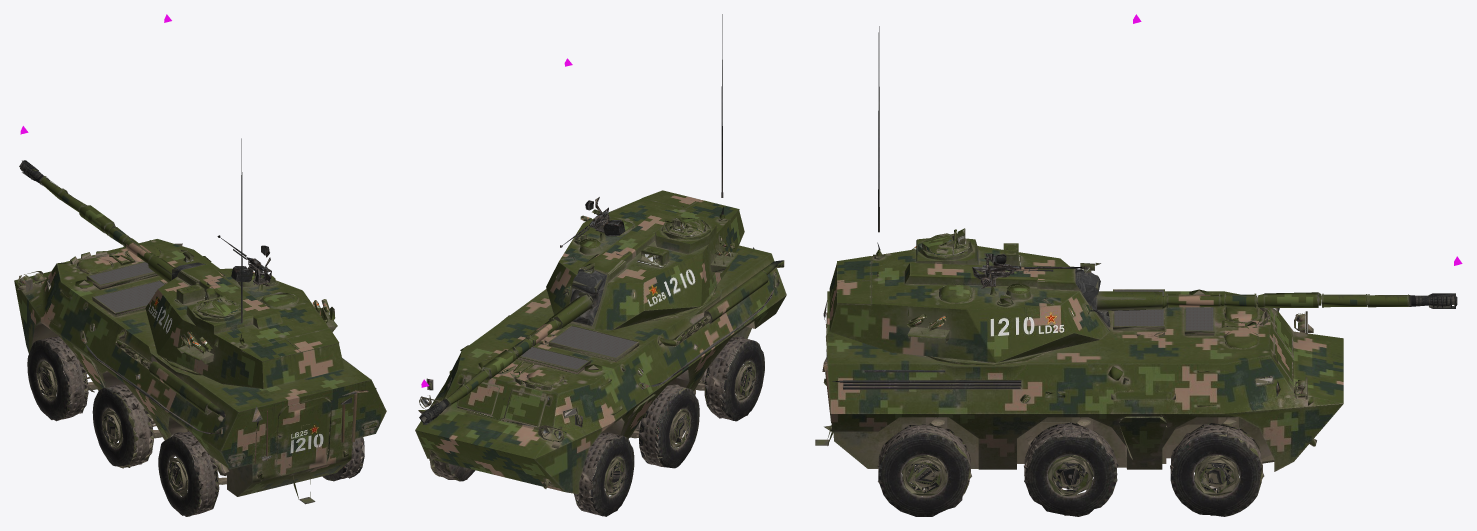
3 views of the same model, side by side, from view 1: azimuth 30°, elevation 25°; view 2: azimuth 150°, elevation 25°; view 3: azimuth 270°, elevation 25° (orthographic). The views are drawn at different scales.
Parts seen in each view (by area): view 1: Body_3, Turret_9, Body_4, Turret_1, Body_2, Turret_7; view 2: Body_3, Turret_9, Body_4, Turret_1, Body_2, Turret_2, Turret_7; view 3: Body_3, Turret_9, Turret_1, Body_2, Turret_2.
Part boxes in pixels (<box>): Body_3: <box>14,239,386,516</box>; Turret_9: <box>145,263,344,388</box>; Body_4: <box>27,336,153,468</box>; Turret_1: <box>19,160,231,318</box>; Body_2: <box>89,262,164,312</box>; Turret_7: <box>217,235,266,282</box>; Body_3: <box>415,245,786,494</box>; Turret_9: <box>546,190,744,330</box>; Body_4: <box>574,384,699,516</box>; Turret_1: <box>419,269,601,424</box>; Body_2: <box>521,326,636,369</box>; Turret_2: <box>570,263,606,325</box>; Turret_7: <box>560,211,625,247</box>; Body_3: <box>815,289,1343,516</box>; Turret_9: <box>829,228,1110,362</box>; Turret_1: <box>1095,275,1457,311</box>; Body_2: <box>1114,290,1213,330</box>; Turret_2: <box>1075,263,1110,327</box>.
Bounding box in the file's own units: 6.21 × 14.21 × 18.15.
Materials: 15 (14 with a texture image).
